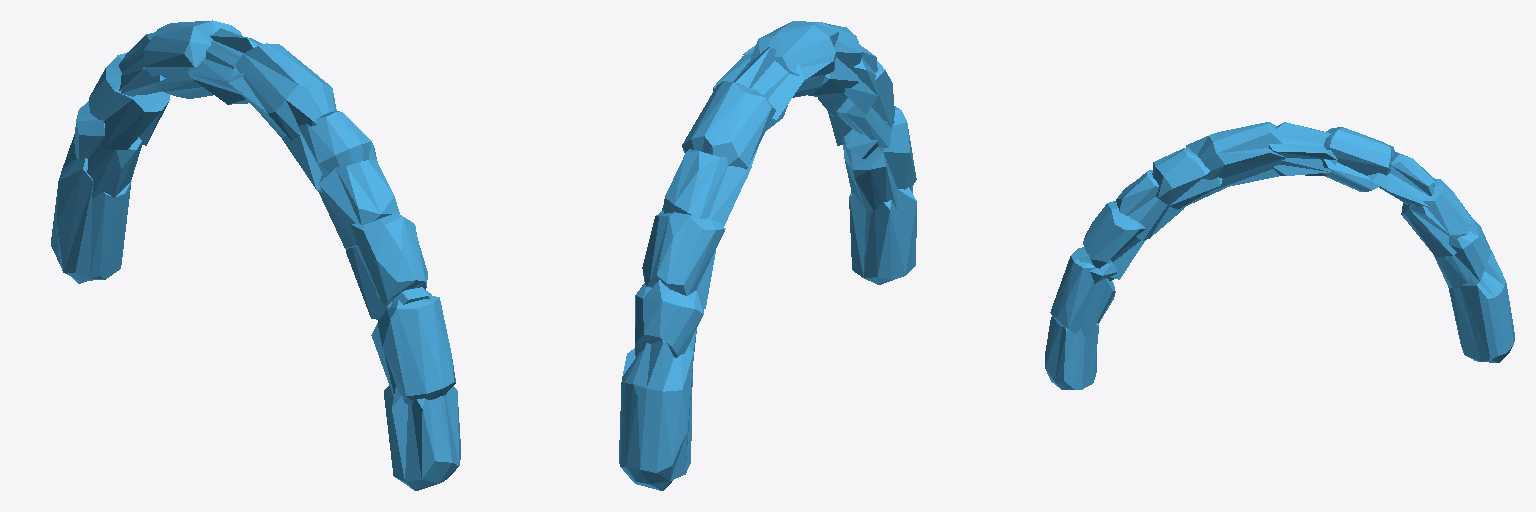
The robot description file, URDF, robot "partnet_f2698060d07d695b84a4ca84933d2fda":
<?xml version="1.0" ?><robot name="partnet_f2698060d07d695b84a4ca84933d2fda">
	<link name="base"/>
	<link name="link_0">
		<visual>
			<origin xyz="0.00014950380524112643 -0.35586725927904084 -0.02401431307284055"/>
			<geometry>
				<mesh filename="new_objs/100482_link_0_5.obj"/>
			</geometry>
		</visual>
	<visual>
			<origin xyz="0.00014950380524112643 -0.35586725927904084 -0.02401431307284055"/>
			<geometry>
				<mesh filename="new_objs/100482_link_0_8.obj"/>
			</geometry>
		</visual>
	<visual>
			<origin xyz="0.00014950380524112643 -0.35586725927904084 -0.02401431307284055"/>
			<geometry>
				<mesh filename="new_objs/100482_link_0_0.obj"/>
			</geometry>
		</visual>
	<visual>
			<origin xyz="0.00014950380524112643 -0.35586725927904084 -0.02401431307284055"/>
			<geometry>
				<mesh filename="new_objs/100482_link_0_12.obj"/>
			</geometry>
		</visual>
	<visual>
			<origin xyz="0.00014950380524112643 -0.35586725927904084 -0.02401431307284055"/>
			<geometry>
				<mesh filename="new_objs/100482_link_0_10.obj"/>
			</geometry>
		</visual>
	<visual>
			<origin xyz="0.00014950380524112643 -0.35586725927904084 -0.02401431307284055"/>
			<geometry>
				<mesh filename="new_objs/100482_link_0_11.obj"/>
			</geometry>
		</visual>
	<visual>
			<origin xyz="0.00014950380524112643 -0.35586725927904084 -0.02401431307284055"/>
			<geometry>
				<mesh filename="new_objs/100482_link_0_7.obj"/>
			</geometry>
		</visual>
	<visual>
			<origin xyz="0.00014950380524112643 -0.35586725927904084 -0.02401431307284055"/>
			<geometry>
				<mesh filename="new_objs/100482_link_0_3.obj"/>
			</geometry>
		</visual>
	<visual>
			<origin xyz="0.00014950380524112643 -0.35586725927904084 -0.02401431307284055"/>
			<geometry>
				<mesh filename="new_objs/100482_link_0_1.obj"/>
			</geometry>
		</visual>
	<visual>
			<origin xyz="0.00014950380524112643 -0.35586725927904084 -0.02401431307284055"/>
			<geometry>
				<mesh filename="new_objs/100482_link_0_6.obj"/>
			</geometry>
		</visual>
	<visual>
			<origin xyz="0.00014950380524112643 -0.35586725927904084 -0.02401431307284055"/>
			<geometry>
				<mesh filename="new_objs/100482_link_0_9.obj"/>
			</geometry>
		</visual>
	<visual>
			<origin xyz="0.00014950380524112643 -0.35586725927904084 -0.02401431307284055"/>
			<geometry>
				<mesh filename="new_objs/100482_link_0_2.obj"/>
			</geometry>
		</visual>
	<visual>
			<origin xyz="0.00014950380524112643 -0.35586725927904084 -0.02401431307284055"/>
			<geometry>
				<mesh filename="new_objs/100482_link_0_4.obj"/>
			</geometry>
		</visual>
	
		<collision>
			<origin xyz="0.00014950380524112643 -0.35586725927904084 -0.02401431307284055"/>
			<geometry>
				<mesh filename="new_objs/100482_link_0_5.obj"/>
			</geometry>
		</collision><collision>
			<origin xyz="0.00014950380524112643 -0.35586725927904084 -0.02401431307284055"/>
			<geometry>
				<mesh filename="new_objs/100482_link_0_8.obj"/>
			</geometry>
		</collision><collision>
			<origin xyz="0.00014950380524112643 -0.35586725927904084 -0.02401431307284055"/>
			<geometry>
				<mesh filename="new_objs/100482_link_0_0.obj"/>
			</geometry>
		</collision><collision>
			<origin xyz="0.00014950380524112643 -0.35586725927904084 -0.02401431307284055"/>
			<geometry>
				<mesh filename="new_objs/100482_link_0_12.obj"/>
			</geometry>
		</collision><collision>
			<origin xyz="0.00014950380524112643 -0.35586725927904084 -0.02401431307284055"/>
			<geometry>
				<mesh filename="new_objs/100482_link_0_10.obj"/>
			</geometry>
		</collision><collision>
			<origin xyz="0.00014950380524112643 -0.35586725927904084 -0.02401431307284055"/>
			<geometry>
				<mesh filename="new_objs/100482_link_0_11.obj"/>
			</geometry>
		</collision><collision>
			<origin xyz="0.00014950380524112643 -0.35586725927904084 -0.02401431307284055"/>
			<geometry>
				<mesh filename="new_objs/100482_link_0_7.obj"/>
			</geometry>
		</collision><collision>
			<origin xyz="0.00014950380524112643 -0.35586725927904084 -0.02401431307284055"/>
			<geometry>
				<mesh filename="new_objs/100482_link_0_3.obj"/>
			</geometry>
		</collision><collision>
			<origin xyz="0.00014950380524112643 -0.35586725927904084 -0.02401431307284055"/>
			<geometry>
				<mesh filename="new_objs/100482_link_0_1.obj"/>
			</geometry>
		</collision><collision>
			<origin xyz="0.00014950380524112643 -0.35586725927904084 -0.02401431307284055"/>
			<geometry>
				<mesh filename="new_objs/100482_link_0_6.obj"/>
			</geometry>
		</collision><collision>
			<origin xyz="0.00014950380524112643 -0.35586725927904084 -0.02401431307284055"/>
			<geometry>
				<mesh filename="new_objs/100482_link_0_9.obj"/>
			</geometry>
		</collision><collision>
			<origin xyz="0.00014950380524112643 -0.35586725927904084 -0.02401431307284055"/>
			<geometry>
				<mesh filename="new_objs/100482_link_0_2.obj"/>
			</geometry>
		</collision><collision>
			<origin xyz="0.00014950380524112643 -0.35586725927904084 -0.02401431307284055"/>
			<geometry>
				<mesh filename="new_objs/100482_link_0_4.obj"/>
			</geometry>
		</collision></link>
	<joint name="joint_0" type="revolute">
		<origin xyz="-0.00014950380524112643 0.35586725927904084 0.02401431307284055"/>
		<axis xyz="1 -0.016 -0.11"/>
		<child link="link_0"/>
		<parent link="link_1"/>
		<limit lower="-2.249380339970292" upper="1.4639821765728436"/>
	</joint>
	<link name="link_1">
		<collision>
			<origin xyz="0 0 0"/>
			<geometry>
				<mesh filename="new_objs/100482_link_1_17.obj"/>
			</geometry>
		</collision>
		<collision>
			<origin xyz="0 0 0"/>
			<geometry>
				<mesh filename="new_objs/100482_link_1_13.obj"/>
			</geometry>
		</collision>
		<collision>
			<origin xyz="0 0 0"/>
			<geometry>
				<mesh filename="new_objs/100482_link_1_0.obj"/>
			</geometry>
		</collision>
		<collision>
			<origin xyz="0 0 0"/>
			<geometry>
				<mesh filename="new_objs/100482_link_1_7.obj"/>
			</geometry>
		</collision>
		<collision>
			<origin xyz="0 0 0"/>
			<geometry>
				<mesh filename="new_objs/100482_link_1_11.obj"/>
			</geometry>
		</collision>
		<collision>
			<origin xyz="0 0 0"/>
			<geometry>
				<mesh filename="new_objs/100482_link_1_3.obj"/>
			</geometry>
		</collision>
		<collision>
			<origin xyz="0 0 0"/>
			<geometry>
				<mesh filename="new_objs/100482_link_1_2.obj"/>
			</geometry>
		</collision>
		<collision>
			<origin xyz="0 0 0"/>
			<geometry>
				<mesh filename="new_objs/100482_link_1_18.obj"/>
			</geometry>
		</collision>
		<collision>
			<origin xyz="0 0 0"/>
			<geometry>
				<mesh filename="new_objs/100482_link_1_19.obj"/>
			</geometry>
		</collision>
		<collision>
			<origin xyz="0 0 0"/>
			<geometry>
				<mesh filename="new_objs/100482_link_1_4.obj"/>
			</geometry>
		</collision>
		<collision>
			<origin xyz="0 0 0"/>
			<geometry>
				<mesh filename="new_objs/100482_link_1_14.obj"/>
			</geometry>
		</collision>
		<collision>
			<origin xyz="0 0 0"/>
			<geometry>
				<mesh filename="new_objs/100482_link_1_6.obj"/>
			</geometry>
		</collision>
		<collision>
			<origin xyz="0 0 0"/>
			<geometry>
				<mesh filename="new_objs/100482_link_1_8.obj"/>
			</geometry>
		</collision>
		<collision>
			<origin xyz="0 0 0"/>
			<geometry>
				<mesh filename="new_objs/100482_link_1_15.obj"/>
			</geometry>
		</collision>
		<collision>
			<origin xyz="0 0 0"/>
			<geometry>
				<mesh filename="new_objs/100482_link_1_5.obj"/>
			</geometry>
		</collision>
		<collision>
			<origin xyz="0 0 0"/>
			<geometry>
				<mesh filename="new_objs/100482_link_1_9.obj"/>
			</geometry>
		</collision>
		<collision>
			<origin xyz="0 0 0"/>
			<geometry>
				<mesh filename="new_objs/100482_link_1_16.obj"/>
			</geometry>
		</collision>
		<collision>
			<origin xyz="0 0 0"/>
			<geometry>
				<mesh filename="new_objs/100482_link_1_1.obj"/>
			</geometry>
		</collision>
		<collision>
			<origin xyz="0 0 0"/>
			<geometry>
				<mesh filename="new_objs/100482_link_1_12.obj"/>
			</geometry>
		</collision>
		<collision>
			<origin xyz="0 0 0"/>
			<geometry>
				<mesh filename="new_objs/100482_link_1_10.obj"/>
			</geometry>
		</collision>
		<visual name="base_body-part[&quot;id]">
			<origin xyz="0 0 0"/>
			<geometry>
				<mesh filename="textured_objs/original-4.obj"/>
			</geometry>
		</visual>
		<visual name="base_body-part[&quot;id]">
			<origin xyz="0 0 0"/>
			<geometry>
				<mesh filename="textured_objs/original-3.obj"/>
			</geometry>
		</visual>
		<visual name="base_body-part[&quot;id]">
			<origin xyz="0 0 0"/>
			<geometry>
				<mesh filename="textured_objs/original-2.obj"/>
			</geometry>
		</visual>
		<visual name="base_body-part[&quot;id]">
			<origin xyz="0 0 0"/>
			<geometry>
				<mesh filename="textured_objs/original-8.obj"/>
			</geometry>
		</visual>
		<visual name="base_body-part[&quot;id]">
			<origin xyz="0 0 0"/>
			<geometry>
				<mesh filename="textured_objs/original-9.obj"/>
			</geometry>
		</visual>
		<visual name="base_body-part[&quot;id]">
			<origin xyz="0 0 0"/>
			<geometry>
				<mesh filename="textured_objs/original-6.obj"/>
			</geometry>
		</visual>
		<visual name="base_body-part[&quot;id]">
			<origin xyz="0 0 0"/>
			<geometry>
				<mesh filename="textured_objs/original-11.obj"/>
			</geometry>
		</visual>
		<visual name="base_body-part[&quot;id]">
			<origin xyz="0 0 0"/>
			<geometry>
				<mesh filename="textured_objs/original-12.obj"/>
			</geometry>
		</visual>
		<visual name="base_body-part[&quot;id]">
			<origin xyz="0 0 0"/>
			<geometry>
				<mesh filename="textured_objs/original-7.obj"/>
			</geometry>
		</visual>
		<visual name="base_body-part[&quot;id]">
			<origin xyz="0 0 0"/>
			<geometry>
				<mesh filename="textured_objs/original-10.obj"/>
			</geometry>
		</visual>
		</link>
	<joint name="joint_1" type="fixed">
		<origin rpy="1.570796326794897 0 -1.570796326794897" xyz="0 0 0"/>
		<child link="link_1"/>
		<parent link="base"/>
	</joint>
</robot>

--- Render facts (derived) ---
The picture shows the robot from 3 angles, left to right: view 1: azimuth 30°, elevation 25°; view 2: azimuth 150°, elevation 25°; view 3: azimuth 270°, elevation 25°; orthographic projection.
Robot: partnet_f2698060d07d695b84a4ca84933d2fda — 3 links, 2 joints (1 revolute, 1 fixed); root link base; default pose: all joints at 0.
Visible links, largest first — view 1: link_0; view 2: link_0; view 3: link_0.
Boxes of the visible links, x1=… form: link_0: x1=51, y1=20, x2=460, y2=490; link_0: x1=619, y1=21, x2=916, y2=490; link_0: x1=1045, y1=122, x2=1514, y2=389.
Size in the robot's own frame: 0.2758 by 1.31 by 0.7879 metres.
Meshes: 23 distinct files referenced, 13 mesh visuals loaded (13 OBJ); not drawn: 10 (reference not matched to a file when rendering).
